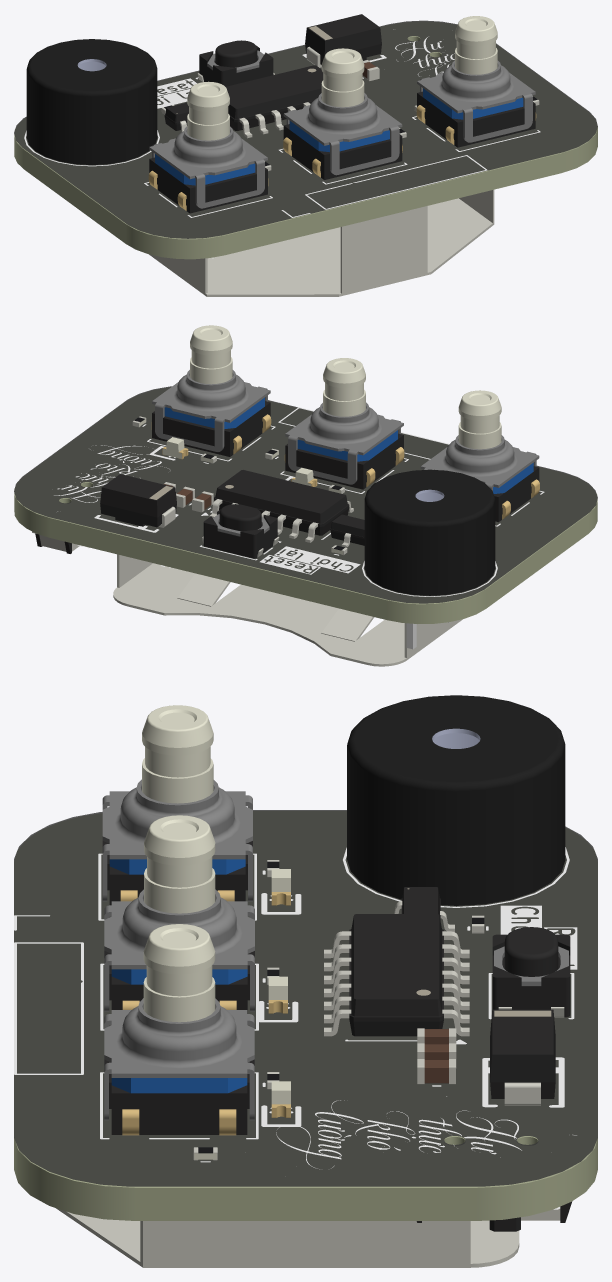
Rendered from bom.glb.
3 views of the same model, one above another, from view 1: azimuth 30°, elevation 25°; view 2: azimuth 150°, elevation 25°; view 3: azimuth 270°, elevation 25° (orthographic). The views are drawn at different scales.
Size of the model in its own units: 0.0368 by 0.0148 by 0.0241.
